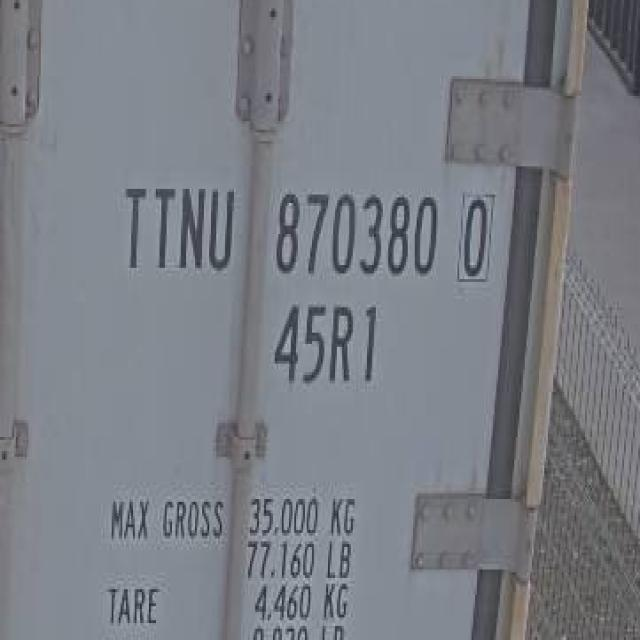dv: (449, 183, 501, 284)
owner: (120, 167, 238, 283)
serial: (264, 181, 440, 281)
size: (263, 297, 386, 394)
